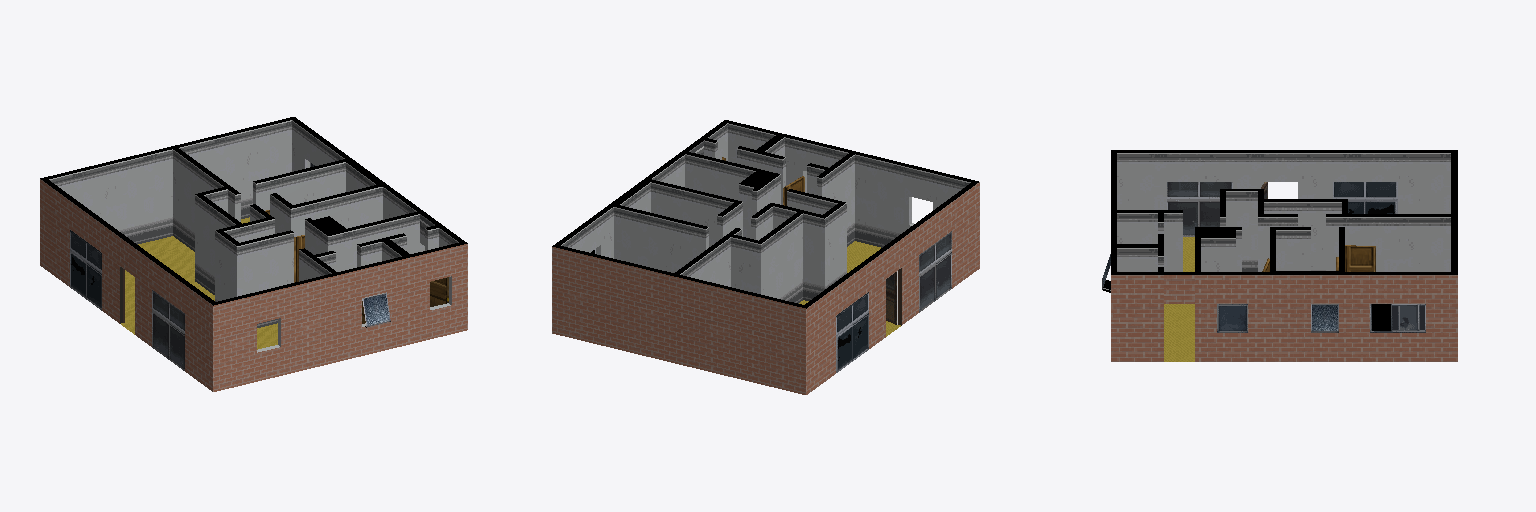
3 renders of one model, left to right at view 1: azimuth 30°, elevation 25°; view 2: azimuth 150°, elevation 25°; view 3: azimuth 270°, elevation 25°, orthographic.
Parts seen in each view (by area): view 1: Skeleton; view 2: Skeleton; view 3: Skeleton.
Boxes of the visible parts, x1=… form: Skeleton: x1=40, y1=117, x2=467, y2=391; Skeleton: x1=552, y1=120, x2=979, y2=394; Skeleton: x1=1102, y1=150, x2=1457, y2=361.
Size of the model in its own units: 470 by 153 by 569.
14 materials, 12 textured.